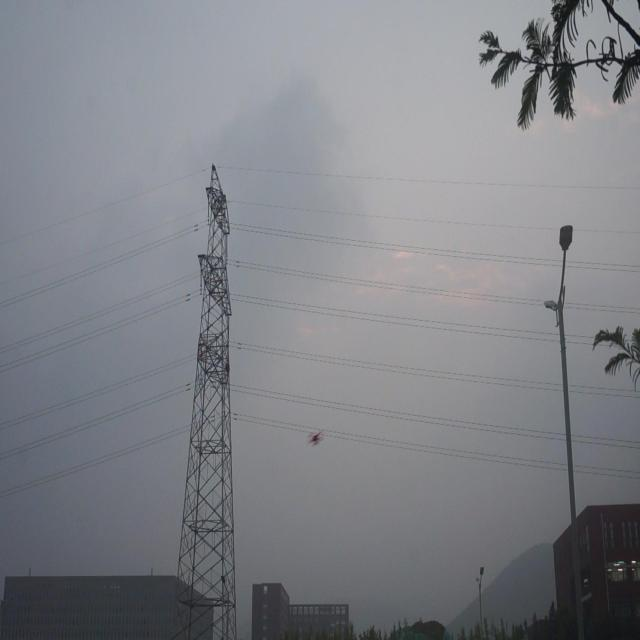drone: (304, 426, 327, 450)
